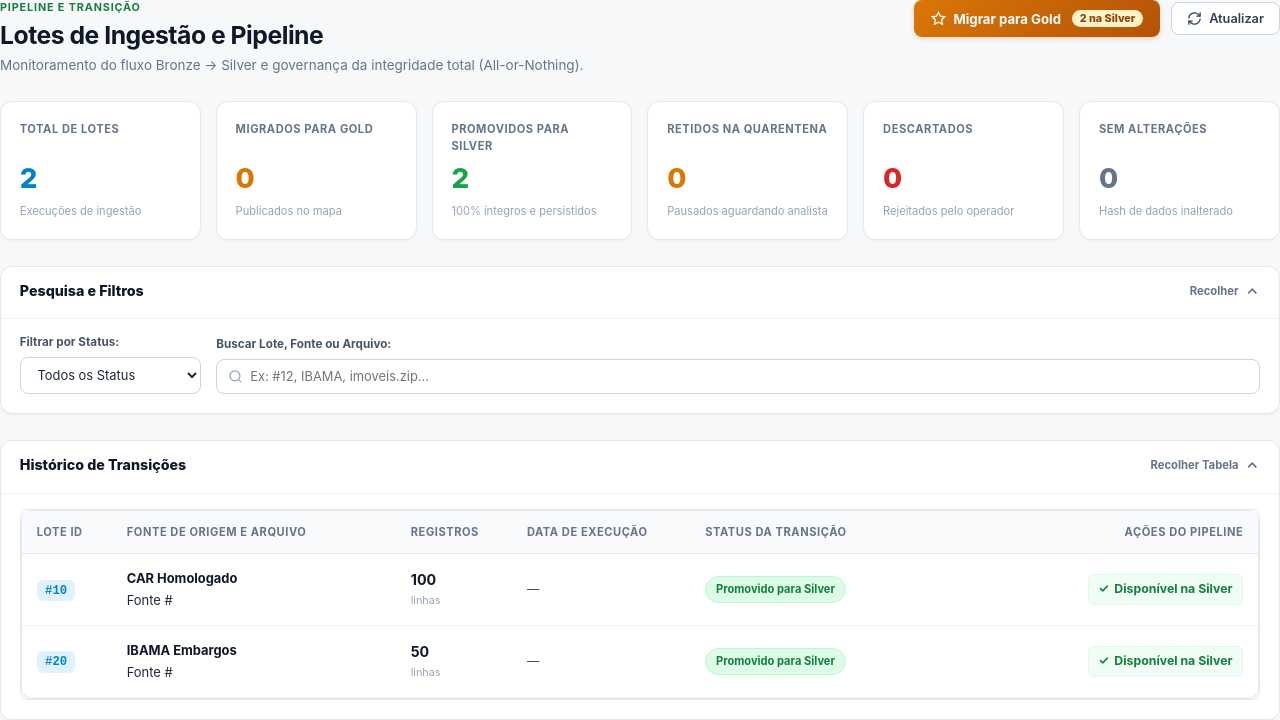
Test case: LotesView.vue - Liberação e Quarentena › abre modal consolidado de confirmação de migração para Gold com detalhes dos indicadores e camadas
This screenshot has width=1280, height=720.
What coordinates should you click on to do the following:
click the button with class "btn-migrar-gold"
I would click on:
 (1037, 18)
Its box is [914,0,1160,37].
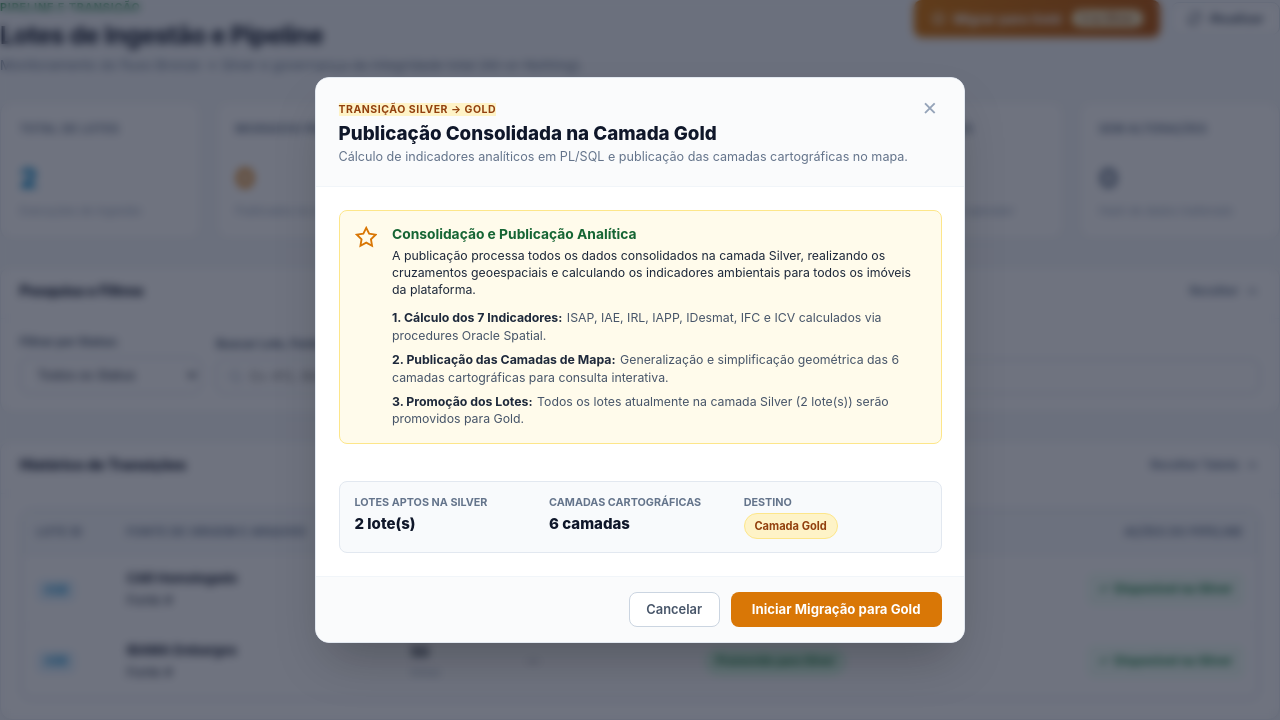
Check: the text "TRANSIÇÃO SILVER → GOLD" is shown, box [338,102,496,116]
Check: the text "Publicação Consolidada na Camada Gold" is shown, box [338,122,717,145]
Check: the text "ISAP, IAE, IRL, IAPP, IDesmat, IFC e ICV" is shown, box [392,310,882,343]
